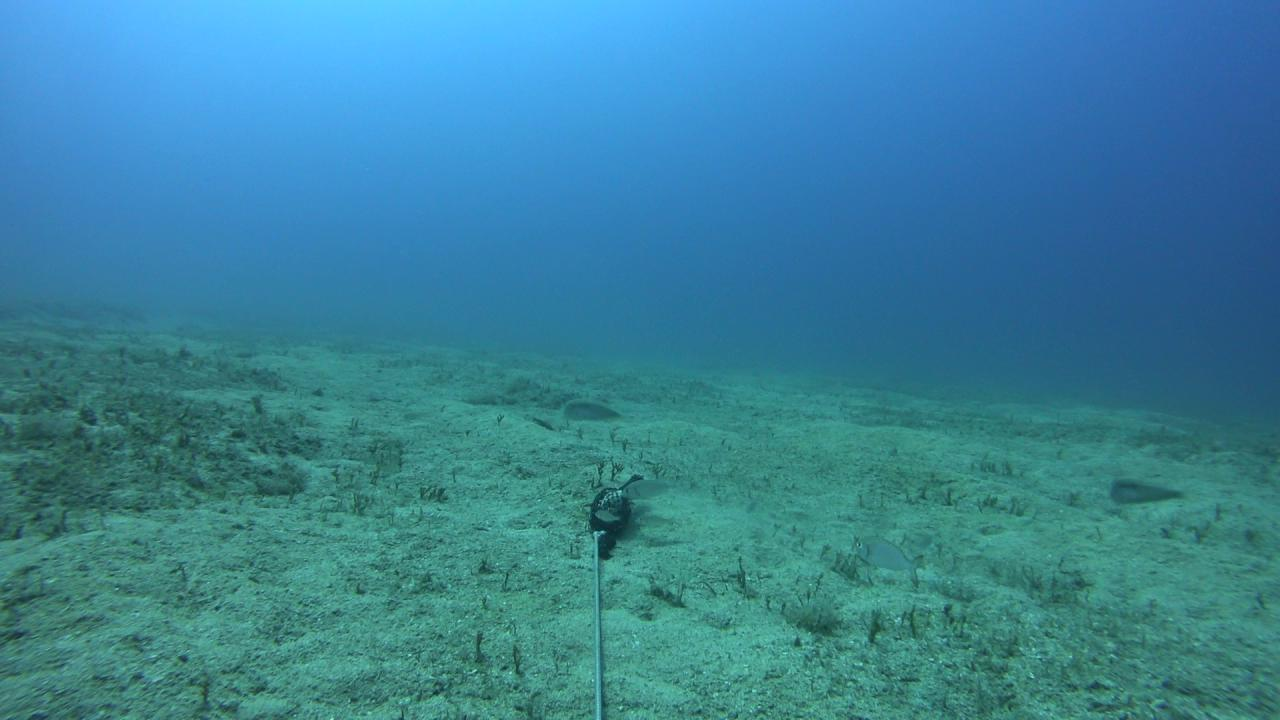pagellus: (852, 535, 925, 587), (620, 481, 678, 500), (636, 514, 681, 530), (596, 511, 625, 523)
raor: (1105, 478, 1199, 503), (564, 400, 624, 421)
